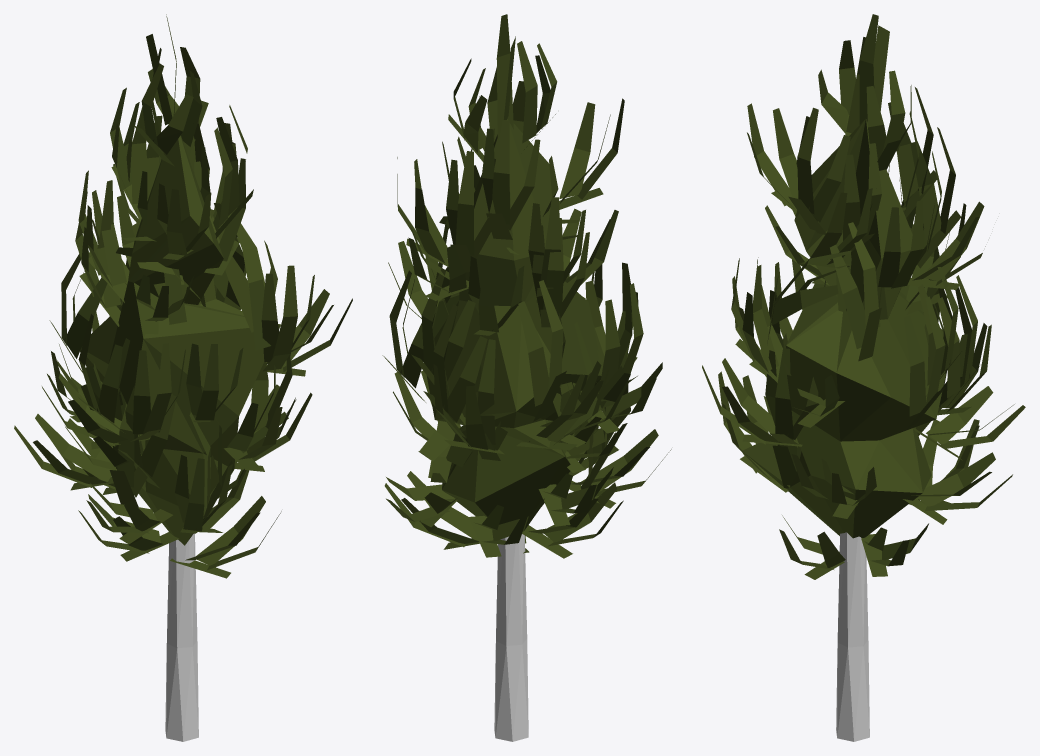
Rendered from SM_Tree_Sequoia_Sapling_A.fbx.
3 views of the same model, side by side, from view 1: azimuth 30°, elevation 25°; view 2: azimuth 150°, elevation 25°; view 3: azimuth 270°, elevation 25° (orthographic). The views are drawn at different scales.
Parts seen in each view (by area): view 1: tree-sequoia-sapling-a; view 2: tree-sequoia-sapling-a; view 3: tree-sequoia-sapling-a.
Part boxes in pixels (bbox=[...]): tree-sequoia-sapling-a: bbox=[14, 14, 352, 741]; tree-sequoia-sapling-a: bbox=[382, 14, 671, 741]; tree-sequoia-sapling-a: bbox=[702, 14, 1025, 741].
Size of the model in its own units: 0.8853 by 2.14 by 0.8757.
